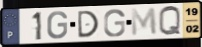1: (31, 11, 44, 41)
D: (77, 9, 101, 39)
G: (103, 8, 127, 38), (46, 11, 69, 40)
M: (130, 7, 159, 38)
Q: (157, 5, 182, 37)
